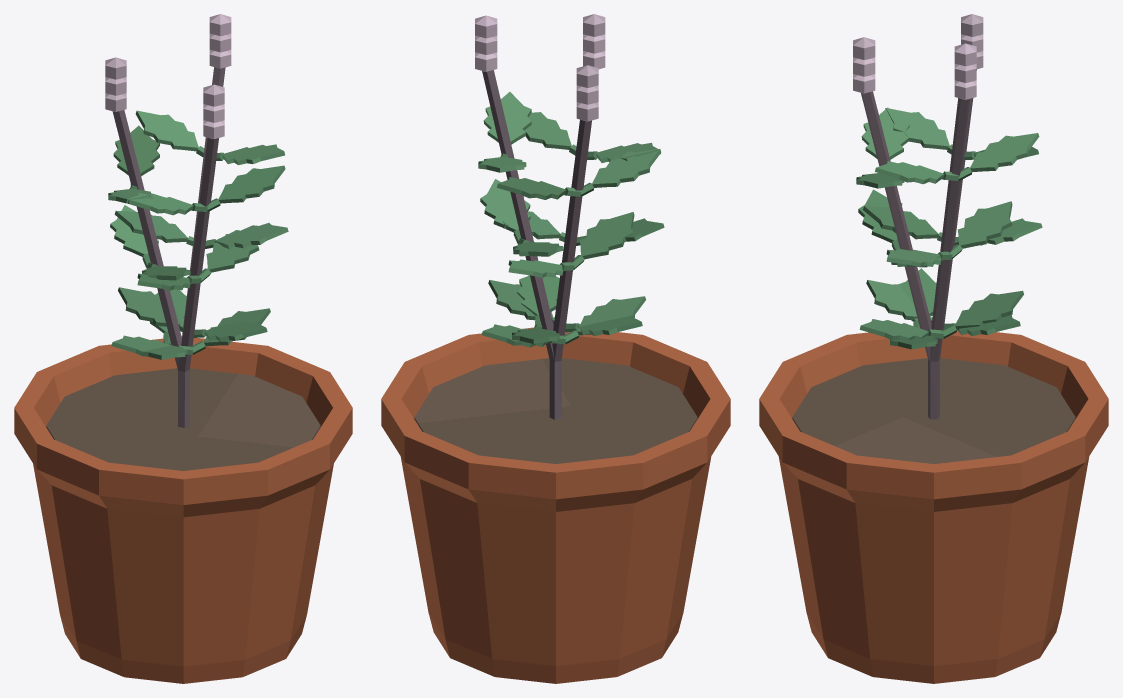
File: peppermint.glb
3 views of the same model, side by side, from view 1: azimuth 30°, elevation 25°; view 2: azimuth 150°, elevation 25°; view 3: azimuth 270°, elevation 25° (orthographic). The views are drawn at different scales.
Parts seen in each view (by area): view 1: peppermint/review-terra-vessel, peppermint/review-rooted-soil, peppermint/stem-033, peppermint/stem-001, peppermint/leaf-029, peppermint/leaf-013, peppermint/leaf-021, peppermint/leaf-043, peppermint/leaf-023, peppermint/leaf-025, peppermint/leaf-009, peppermint/leaf-011 (+8 smaller); view 2: peppermint/review-terra-vessel, peppermint/review-rooted-soil, peppermint/stem-033, peppermint/stem-017, peppermint/leaf-041, peppermint/leaf-045, peppermint/leaf-027, peppermint/leaf-023, peppermint/leaf-013, peppermint/leaf-037, peppermint/leaf-043, peppermint/leaf-005 (+9 smaller); view 3: peppermint/review-terra-vessel, peppermint/review-rooted-soil, peppermint/stem-017, peppermint/stem-001, peppermint/leaf-025, peppermint/leaf-029, peppermint/leaf-021, peppermint/leaf-045, peppermint/leaf-037, peppermint/leaf-011, peppermint/leaf-041, peppermint/leaf-027 (+8 smaller).
Boxes of the visible parts, box(x1,y1,x2,y2) form: peppermint/review-terra-vessel: box(14, 336, 352, 683); peppermint/review-rooted-soil: box(46, 368, 320, 470); peppermint/stem-033: box(112, 110, 184, 427); peppermint/stem-001: box(178, 137, 218, 425); peppermint/leaf-029: box(135, 110, 198, 151); peppermint/leaf-013: box(218, 165, 285, 203); peppermint/leaf-021: box(118, 287, 180, 326); peppermint/leaf-043: box(113, 125, 159, 176); peppermint/leaf-023: box(215, 223, 288, 248); peppermint/leaf-025: box(114, 210, 187, 242); peppermint/leaf-009: box(206, 233, 259, 272); peppermint/leaf-011: box(126, 192, 193, 215); peppermint/review-terra-vessel: box(381, 327, 730, 683); peppermint/review-rooted-soil: box(414, 358, 697, 463); peppermint/stem-033: box(549, 119, 591, 419); peppermint/stem-017: box(482, 70, 561, 419); peppermint/leaf-041: box(579, 212, 634, 259); peppermint/leaf-045: box(592, 149, 661, 187); peppermint/leaf-027: box(483, 92, 531, 144); peppermint/leaf-023: box(480, 179, 530, 232); peppermint/leaf-013: box(524, 112, 571, 149); peppermint/leaf-037: box(577, 296, 645, 335); peppermint/leaf-043: box(497, 177, 566, 199); peppermint/leaf-005: box(488, 280, 553, 320); peppermint/review-terra-vessel: box(759, 330, 1108, 683); peppermint/review-rooted-soil: box(792, 358, 1075, 463); peppermint/stem-017: box(928, 98, 970, 418); peppermint/stem-001: box(861, 91, 937, 419); peppermint/leaf-025: box(957, 201, 1012, 248); peppermint/leaf-029: box(970, 133, 1039, 171); peppermint/leaf-021: box(955, 290, 1023, 329); peppermint/leaf-045: box(885, 108, 949, 149); peppermint/leaf-037: box(866, 280, 931, 320); peppermint/leaf-011: box(861, 107, 909, 159); peppermint/leaf-041: box(863, 206, 938, 239); peppermint/leaf-027: box(875, 161, 944, 184).
Bounding box in the file's own units: 0.19 × 0.369 × 0.19.
5 materials, 5 textured.
